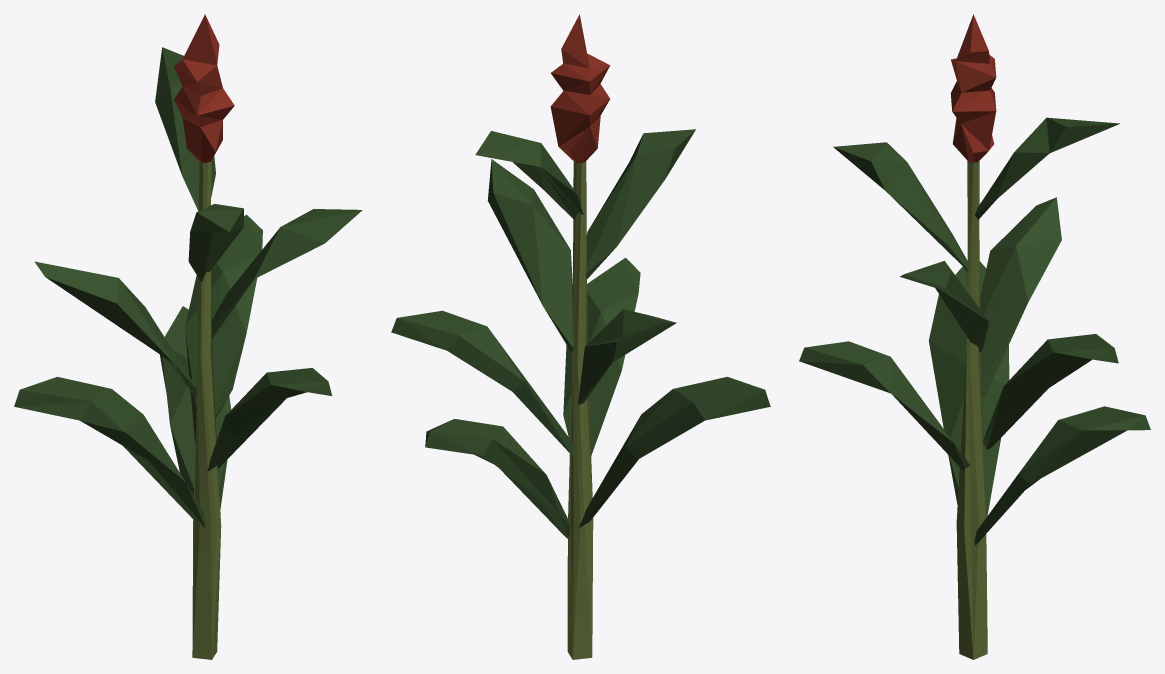
The model's file is SM_Env_Flowers_01.glb.
3 views of the same model, side by side, from view 1: azimuth 30°, elevation 25°; view 2: azimuth 150°, elevation 25°; view 3: azimuth 270°, elevation 25° (orthographic).
Visible parts, largest first — view 1: SM_Env_Flowers_01; view 2: SM_Env_Flowers_01; view 3: SM_Env_Flowers_01.
Boxes of the visible parts, box(x1,y1,x2,y2) form: SM_Env_Flowers_01: box(14, 14, 362, 659); SM_Env_Flowers_01: box(391, 14, 770, 659); SM_Env_Flowers_01: box(799, 14, 1150, 659).
Size of the model in its own units: 0.00711 by 0.0139 by 0.00691.
